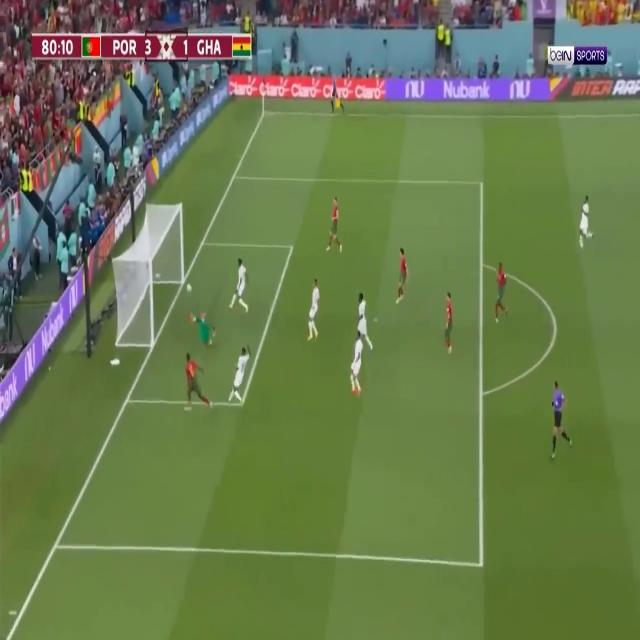Ball: (187, 283, 192, 293)
GoalKeeper: (190, 310, 217, 346)
Referee: (547, 375, 572, 462), (330, 71, 346, 118)
TEAM 1: (182, 340, 214, 416), (325, 194, 344, 260), (442, 287, 457, 358), (494, 254, 508, 328), (395, 245, 409, 305)
TEAM 2: (344, 329, 372, 400), (226, 343, 252, 409), (353, 288, 378, 352), (228, 254, 251, 314), (577, 194, 595, 253), (305, 279, 321, 340)
